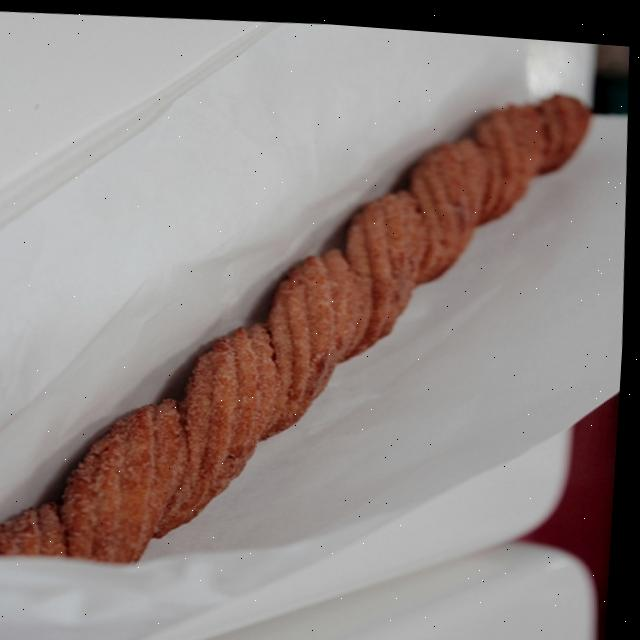炸货点心: (0, 9, 637, 628)
